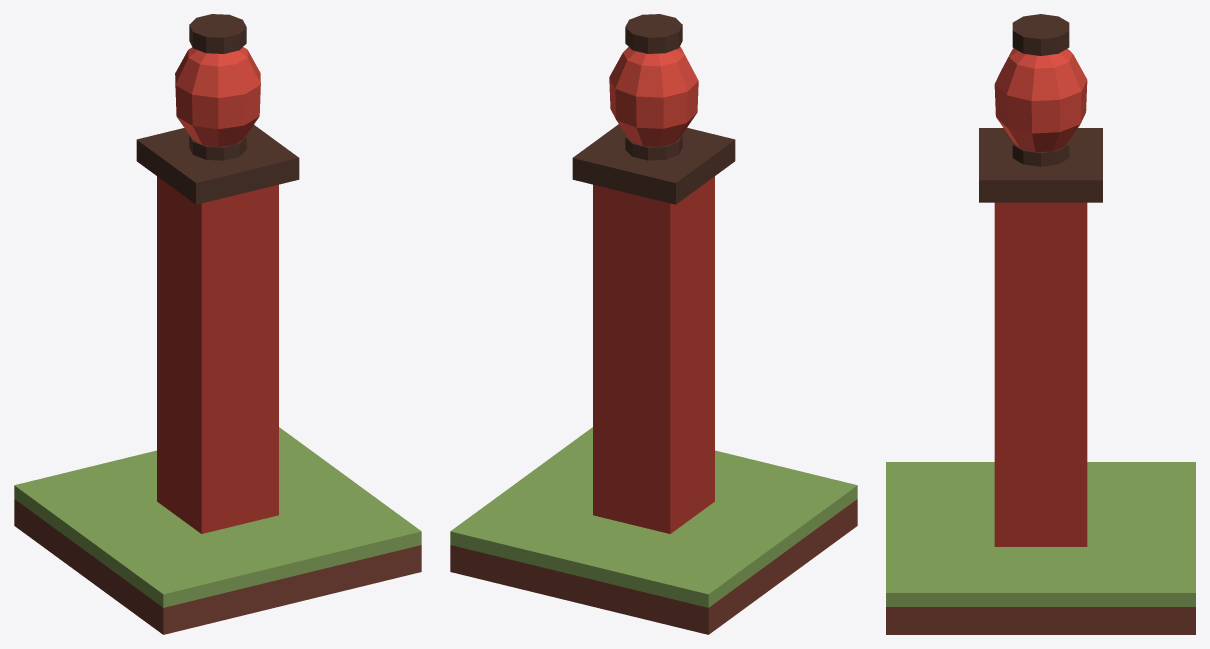
Rendered from red-lantern.glb.
3 views of the same model, side by side, from view 1: azimuth 30°, elevation 25°; view 2: azimuth 150°, elevation 25°; view 3: azimuth 270°, elevation 25° (orthographic). The views are drawn at different scales.
Visible parts, largest first — view 1: red-lantern; view 2: red-lantern; view 3: red-lantern.
Part boxes in pixels (left/top/right/bottom): red-lantern: left=14, top=14, right=421, bottom=634; red-lantern: left=450, top=14, right=857, bottom=634; red-lantern: left=886, top=14, right=1195, bottom=634.
Size of the model in its own units: 1 by 1.93 by 1.
